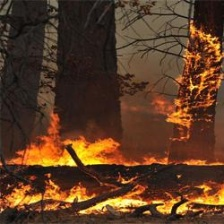fire: (1, 127, 223, 221), (162, 22, 222, 126)
